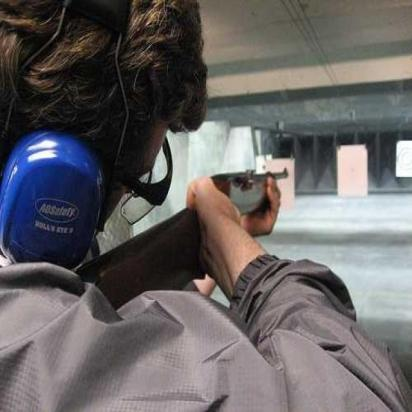Gun: (72, 152, 293, 347)
